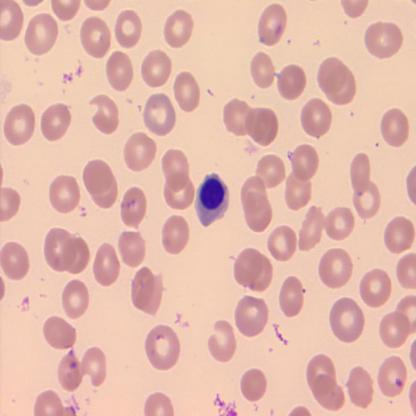NRC: (193, 171, 231, 227)
